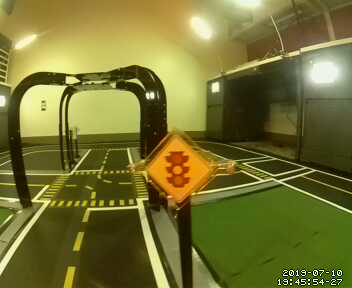Traffic light sign: (144, 133, 209, 205)
